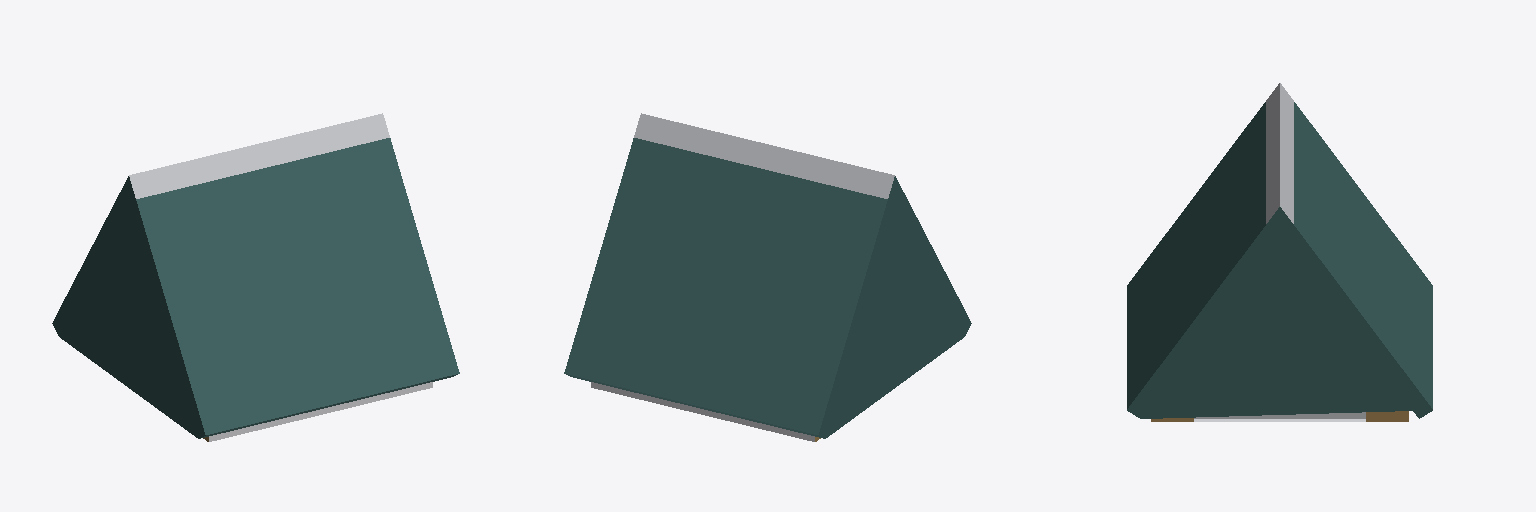
Rendered from Roof_Straight_Green_01.obj.
3 views of the same model, side by side, from view 1: azimuth 30°, elevation 25°; view 2: azimuth 150°, elevation 25°; view 3: azimuth 270°, elevation 25° (orthographic).
Parts seen in each view (by area): view 1: Mesh1 Roof_Straight_Green Model; view 2: Mesh1 Roof_Straight_Green Model; view 3: Mesh1 Roof_Straight_Green Model.
Boxes of the visible parts, x1=… form: Mesh1 Roof_Straight_Green Model: x1=52, y1=113, x2=459, y2=441; Mesh1 Roof_Straight_Green Model: x1=564, y1=113, x2=971, y2=441; Mesh1 Roof_Straight_Green Model: x1=1127, y1=83, x2=1432, y2=421.
Bounding box in the file's own units: 3.4 × 2.85 × 3.56.